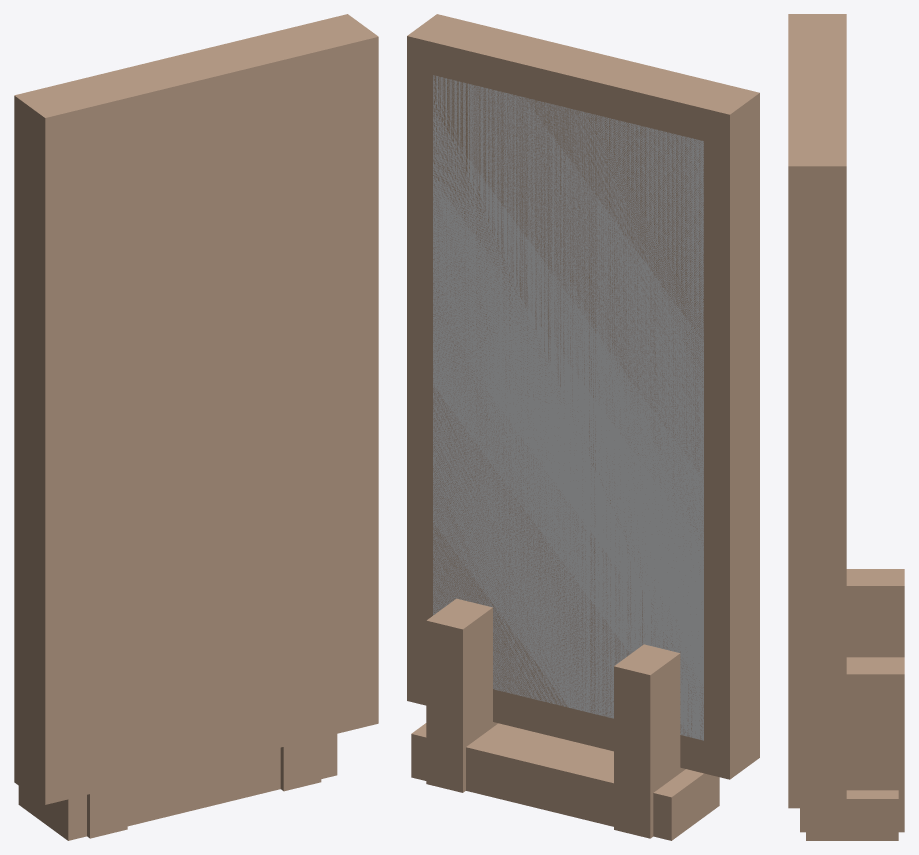
The model's file is mirror.glb.
The picture shows the model from 3 angles, left to right: view 1: azimuth 30°, elevation 25°; view 2: azimuth 150°, elevation 25°; view 3: azimuth 270°, elevation 25°; orthographic projection. The views are drawn at different scales.
Parts seen in each view (by area): view 1: Mirror; view 2: Mirror; view 3: Mirror.
Boxes of the visible parts, left/top/right/bottom form: Mirror: left=14, top=14, right=378, bottom=840; Mirror: left=407, top=14, right=759, bottom=840; Mirror: left=788, top=14, right=904, bottom=840.
Bounding box in the file's own units: 0.62 × 1.31 × 0.2.
